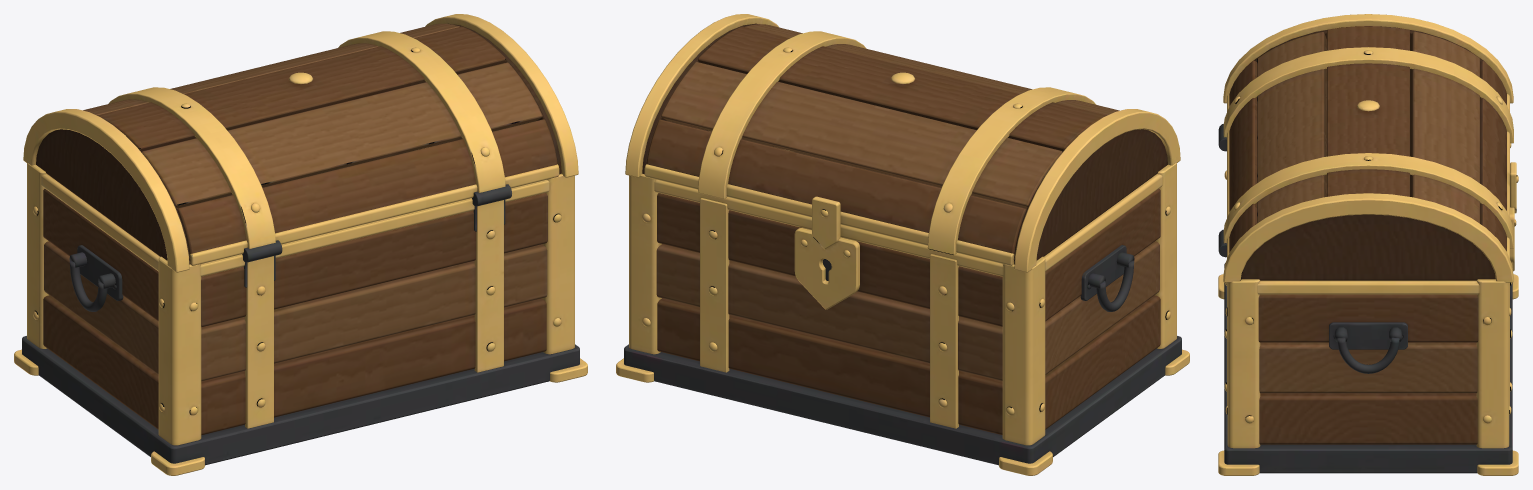
File: cofre.glb
3 views of the same model, side by side, from view 1: azimuth 30°, elevation 25°; view 2: azimuth 150°, elevation 25°; view 3: azimuth 270°, elevation 25° (orthographic). The views are drawn at different scales.
Visible parts, largest first — view 1: cofre_cuerpo_malla, cofre_tapa_malla; view 2: cofre_cuerpo_malla, cofre_tapa_malla; view 3: cofre_tapa_malla, cofre_cuerpo_malla.
Boxes of the visible parts, x1,y1,x2,y2 form: cofre_cuerpo_malla: [14, 163, 587, 475]; cofre_tapa_malla: [23, 14, 578, 272]; cofre_cuerpo_malla: [616, 139, 1189, 475]; cofre_tapa_malla: [625, 14, 1180, 272]; cofre_tapa_malla: [1223, 14, 1518, 282]; cofre_cuerpo_malla: [1218, 123, 1518, 475].
Size of the model in its own units: 1.13 by 0.7318 by 0.72.
Materials: 2 (1 with a texture image).
